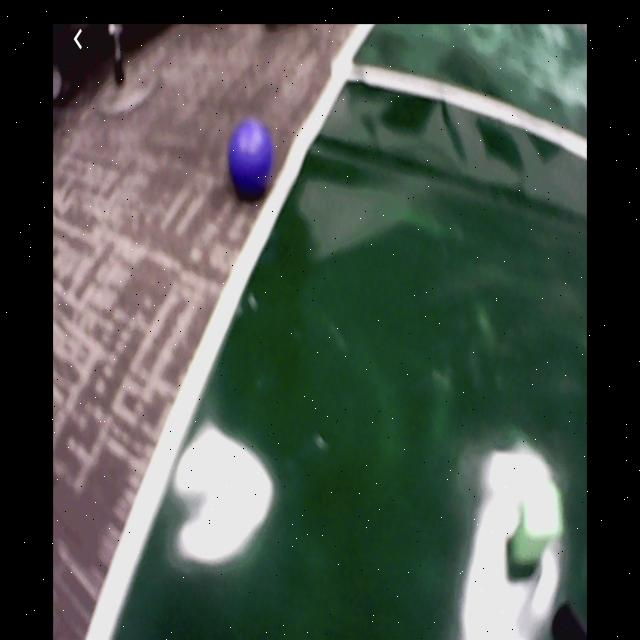ball: (230, 120, 272, 194)
